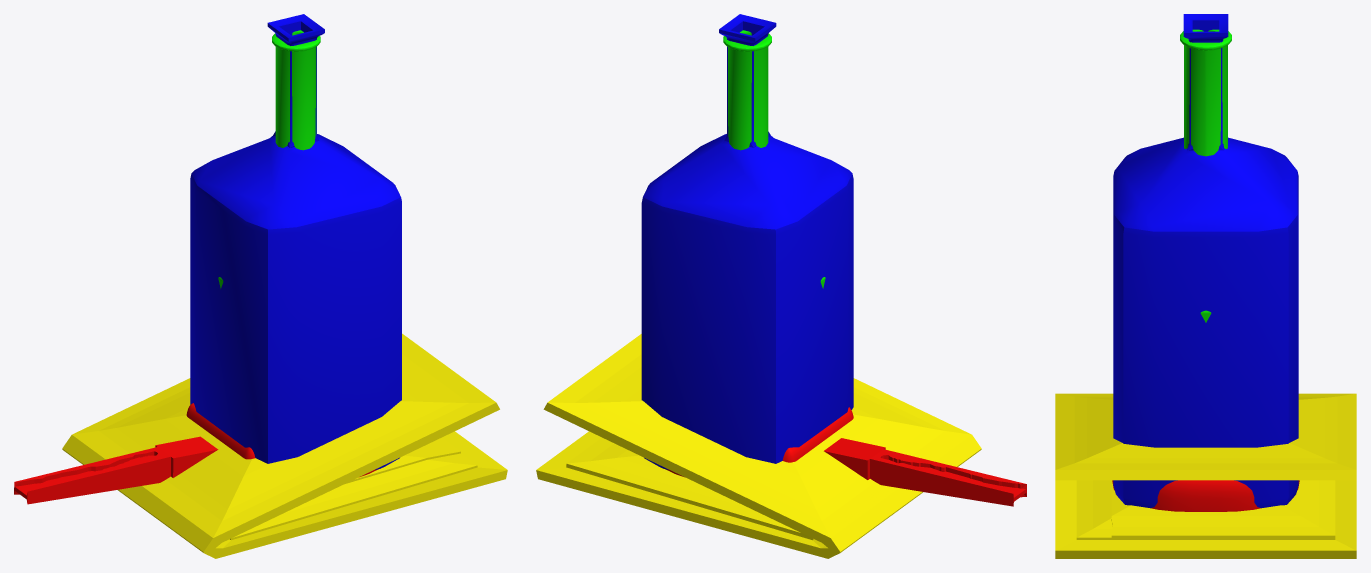
The model's file is props_appart.fbx.
The picture shows the model from 3 angles, left to right: view 1: azimuth 30°, elevation 25°; view 2: azimuth 150°, elevation 25°; view 3: azimuth 270°, elevation 25°; orthographic projection. The views are drawn at different scales.
Parts seen in each view (by area): view 1: Box006, Box004, Box001, Cylinder001; view 2: Box006, Box004, Box001, Cylinder001; view 3: Box006, Box004, Cylinder001, Box001.
Boxes of the visible parts, bbox=[...] form: Box006: bbox=[190, 14, 401, 469]; Box004: bbox=[62, 333, 507, 558]; Box001: bbox=[14, 403, 377, 504]; Cylinder001: bbox=[218, 30, 320, 288]; Box006: bbox=[641, 14, 853, 469]; Box004: bbox=[536, 334, 981, 558]; Box001: bbox=[666, 407, 1026, 506]; Cylinder001: bbox=[723, 30, 825, 288]; Box006: bbox=[1113, 14, 1298, 508]; Box004: bbox=[1055, 393, 1356, 558]; Cylinder001: bbox=[1180, 29, 1231, 322]; Box001: bbox=[1112, 480, 1299, 511].
Bounding box in the file's own units: 35.67 × 37.27 × 21.05.
